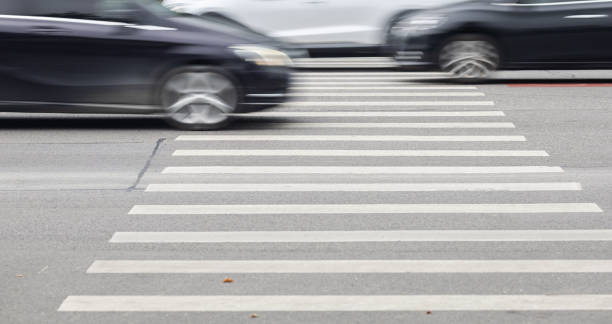zebracross: (96, 130, 608, 318)
